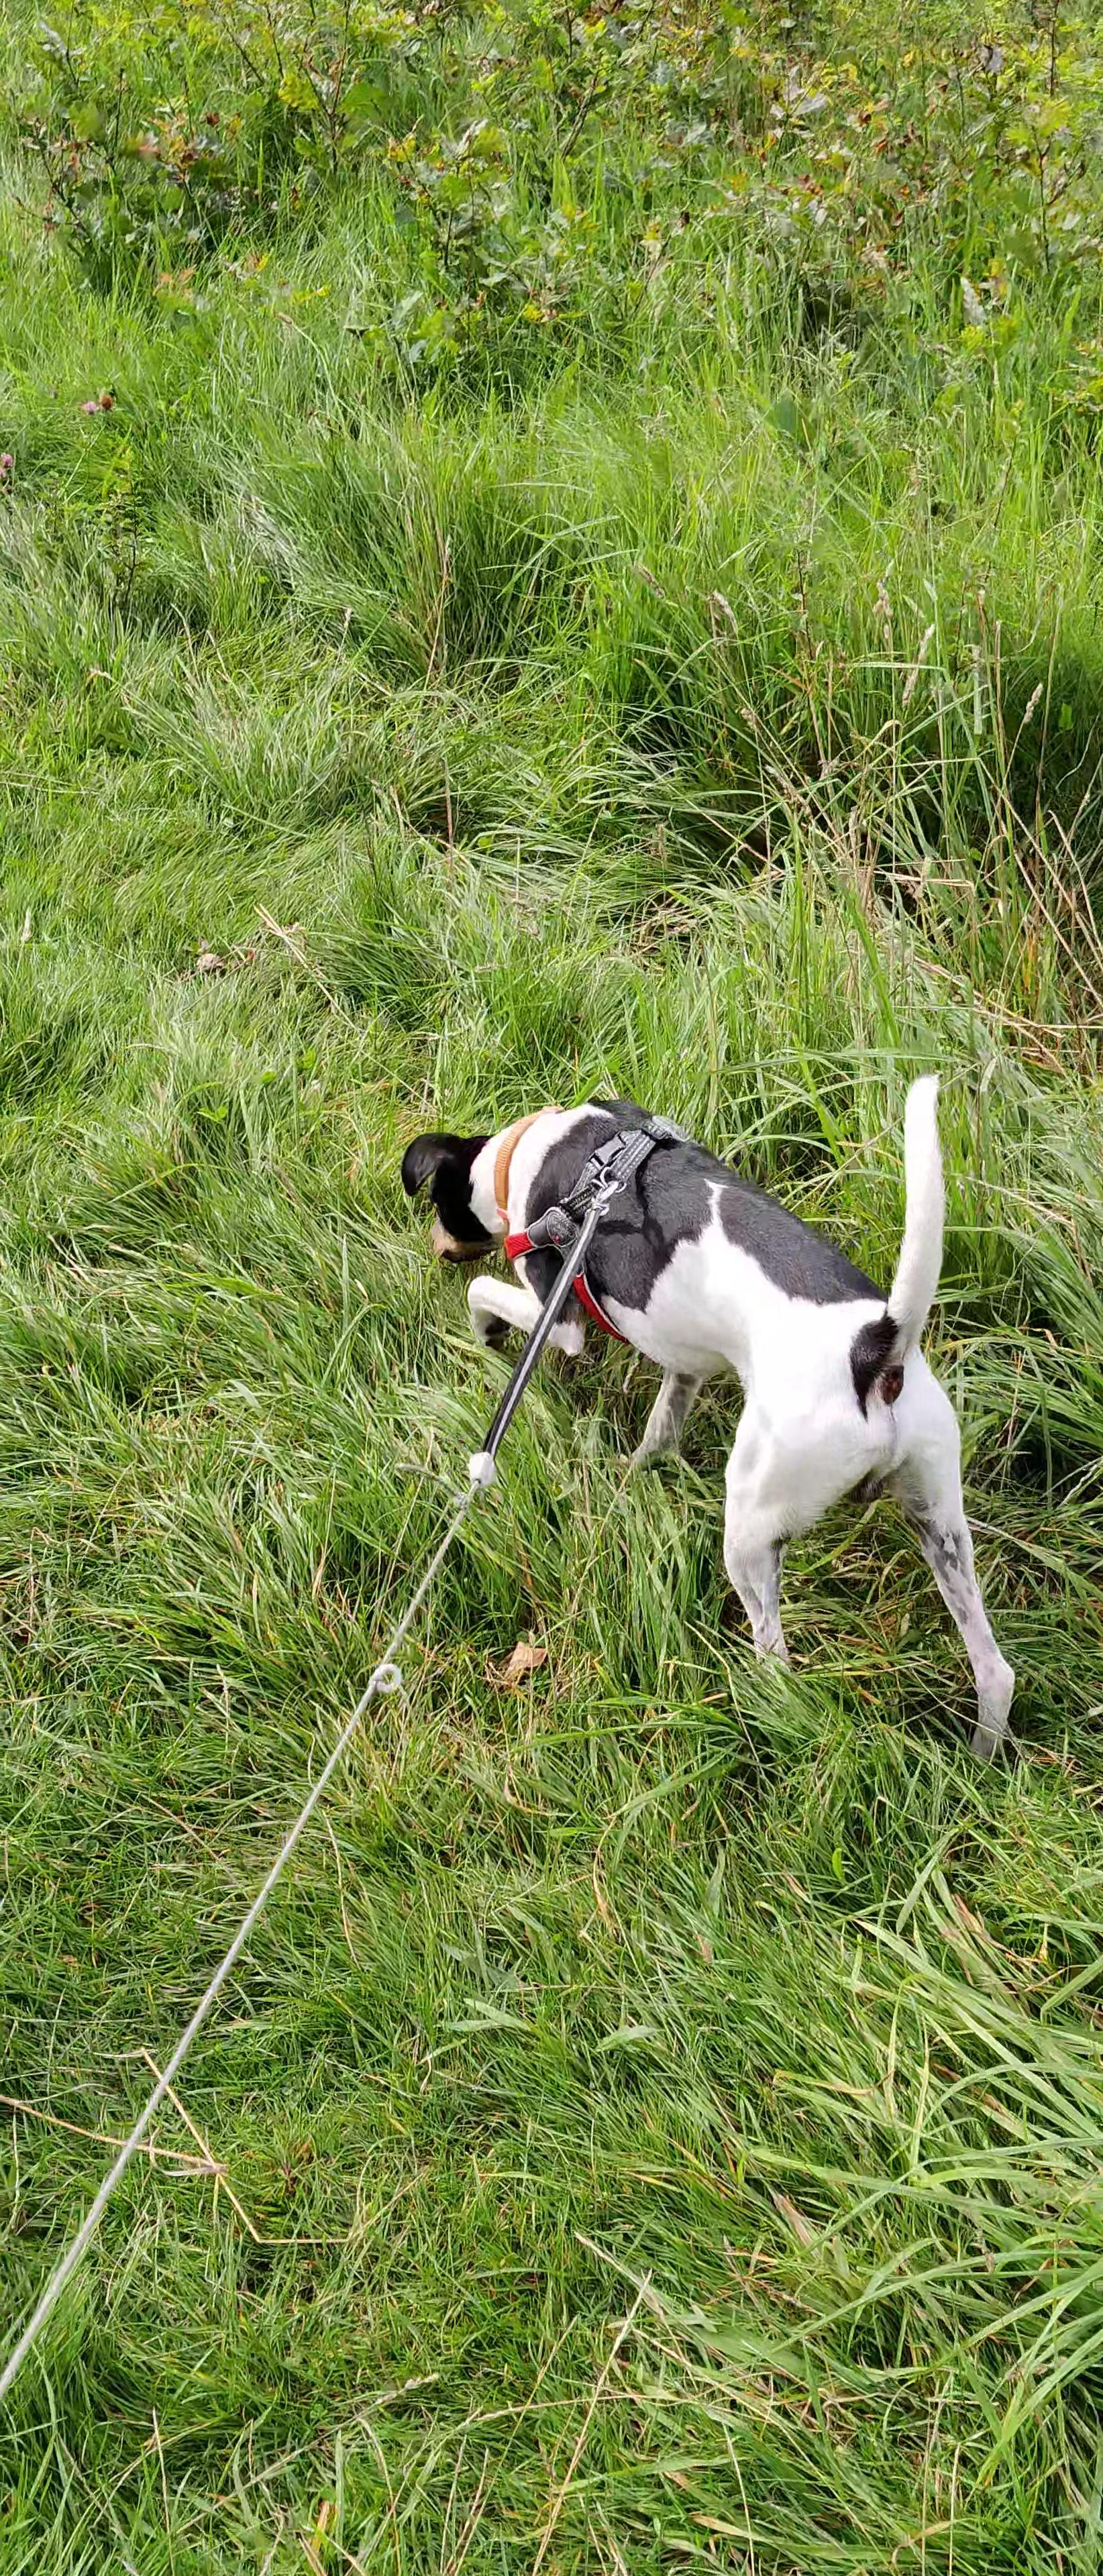Dog: (390, 1046, 1034, 1771)
